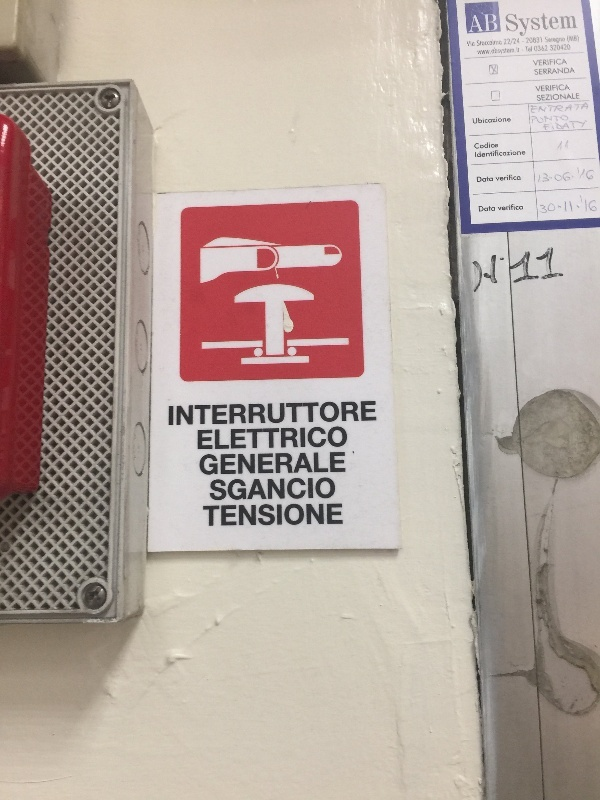text: (481, 241, 496, 296), (497, 241, 512, 296), (513, 241, 528, 296), (529, 241, 544, 296), (545, 241, 560, 296), (177, 398, 192, 429), (193, 398, 208, 429), (209, 398, 224, 429), (225, 398, 240, 429), (241, 398, 256, 429), (257, 398, 272, 429), (273, 398, 288, 429), (289, 398, 304, 429), (305, 398, 320, 429), (321, 398, 336, 429), (337, 398, 352, 429), (353, 398, 368, 429), (472, 241, 480, 296), (209, 425, 224, 454), (225, 425, 240, 454), (241, 425, 256, 454), (257, 425, 272, 454), (273, 425, 288, 454), (289, 425, 304, 454), (305, 425, 320, 454), (321, 425, 336, 454), (209, 450, 224, 479), (225, 450, 240, 479), (241, 450, 256, 479), (257, 450, 272, 479), (273, 450, 288, 479), (289, 450, 304, 479), (305, 450, 320, 479), (321, 450, 336, 479), (209, 502, 224, 531), (225, 502, 240, 531), (241, 502, 256, 531), (257, 502, 272, 531), (273, 502, 288, 531), (289, 502, 304, 531), (305, 502, 320, 531), (321, 502, 336, 531), (513, 11, 528, 40), (529, 11, 544, 40), (545, 11, 560, 40), (561, 11, 576, 40), (225, 476, 240, 504), (241, 476, 256, 504), (257, 476, 272, 504), (273, 476, 288, 504), (289, 476, 304, 504), (305, 476, 320, 504), (321, 476, 336, 504), (210, 476, 224, 504), (545, 190, 560, 215), (561, 190, 576, 215), (577, 190, 592, 215), (337, 425, 349, 454), (481, 12, 496, 34), (197, 425, 208, 454), (545, 165, 560, 186), (561, 165, 576, 186), (577, 165, 592, 186), (369, 398, 379, 429), (337, 450, 347, 479), (199, 450, 208, 479), (168, 398, 176, 429), (337, 502, 345, 531), (561, 241, 565, 296), (545, 118, 560, 132), (561, 118, 576, 132), (201, 502, 208, 531), (545, 101, 560, 114), (561, 101, 576, 114), (561, 140, 576, 152), (506, 11, 512, 40), (531, 101, 544, 114), (545, 114, 560, 125), (577, 101, 589, 114), (577, 118, 588, 132), (513, 36, 528, 46), (481, 46, 496, 56), (497, 46, 512, 56), (545, 83, 560, 93), (545, 92, 560, 102), (561, 92, 576, 102), (481, 149, 496, 159), (497, 149, 512, 159), (497, 172, 512, 182), (531, 114, 544, 125), (529, 36, 543, 46), (498, 202, 512, 212), (545, 58, 560, 67), (545, 67, 560, 76), (561, 67, 576, 76), (481, 116, 496, 125), (497, 116, 512, 125), (481, 141, 496, 150), (474, 12, 480, 34), (513, 149, 526, 159), (593, 190, 598, 215), (481, 39, 496, 47), (545, 36, 560, 44), (513, 202, 524, 212), (539, 165, 544, 186), (481, 206, 496, 213), (467, 40, 480, 48), (561, 83, 571, 93), (540, 190, 544, 215), (533, 58, 544, 67), (481, 176, 494, 183), (561, 44, 572, 52), (561, 114, 569, 125), (567, 35, 576, 44), (535, 67, 544, 76), (504, 36, 512, 46), (534, 45, 544, 53), (550, 44, 560, 52), (536, 83, 544, 93), (513, 172, 521, 182), (513, 46, 520, 56), (537, 92, 544, 102), (561, 58, 568, 67), (473, 116, 480, 125), (577, 11, 579, 40), (475, 149, 480, 159), (475, 141, 480, 150), (593, 165, 595, 186), (497, 39, 502, 47), (561, 36, 566, 44), (545, 45, 549, 53), (477, 46, 480, 56), (577, 92, 580, 102), (337, 476, 338, 504), (529, 46, 533, 53), (577, 35, 580, 44), (477, 39, 480, 47), (497, 12, 498, 34), (477, 176, 480, 183), (522, 49, 528, 52), (497, 141, 499, 150), (526, 46, 528, 53), (479, 206, 480, 213)
